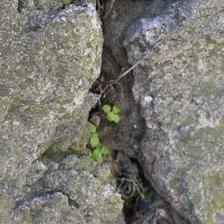Crack: (42, 5, 151, 215)
